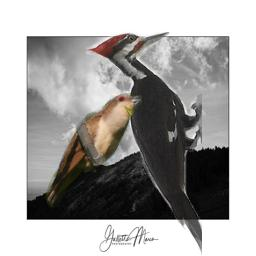Cuckoo: (42, 93, 142, 210)
Woodpecker: (86, 31, 202, 255)
